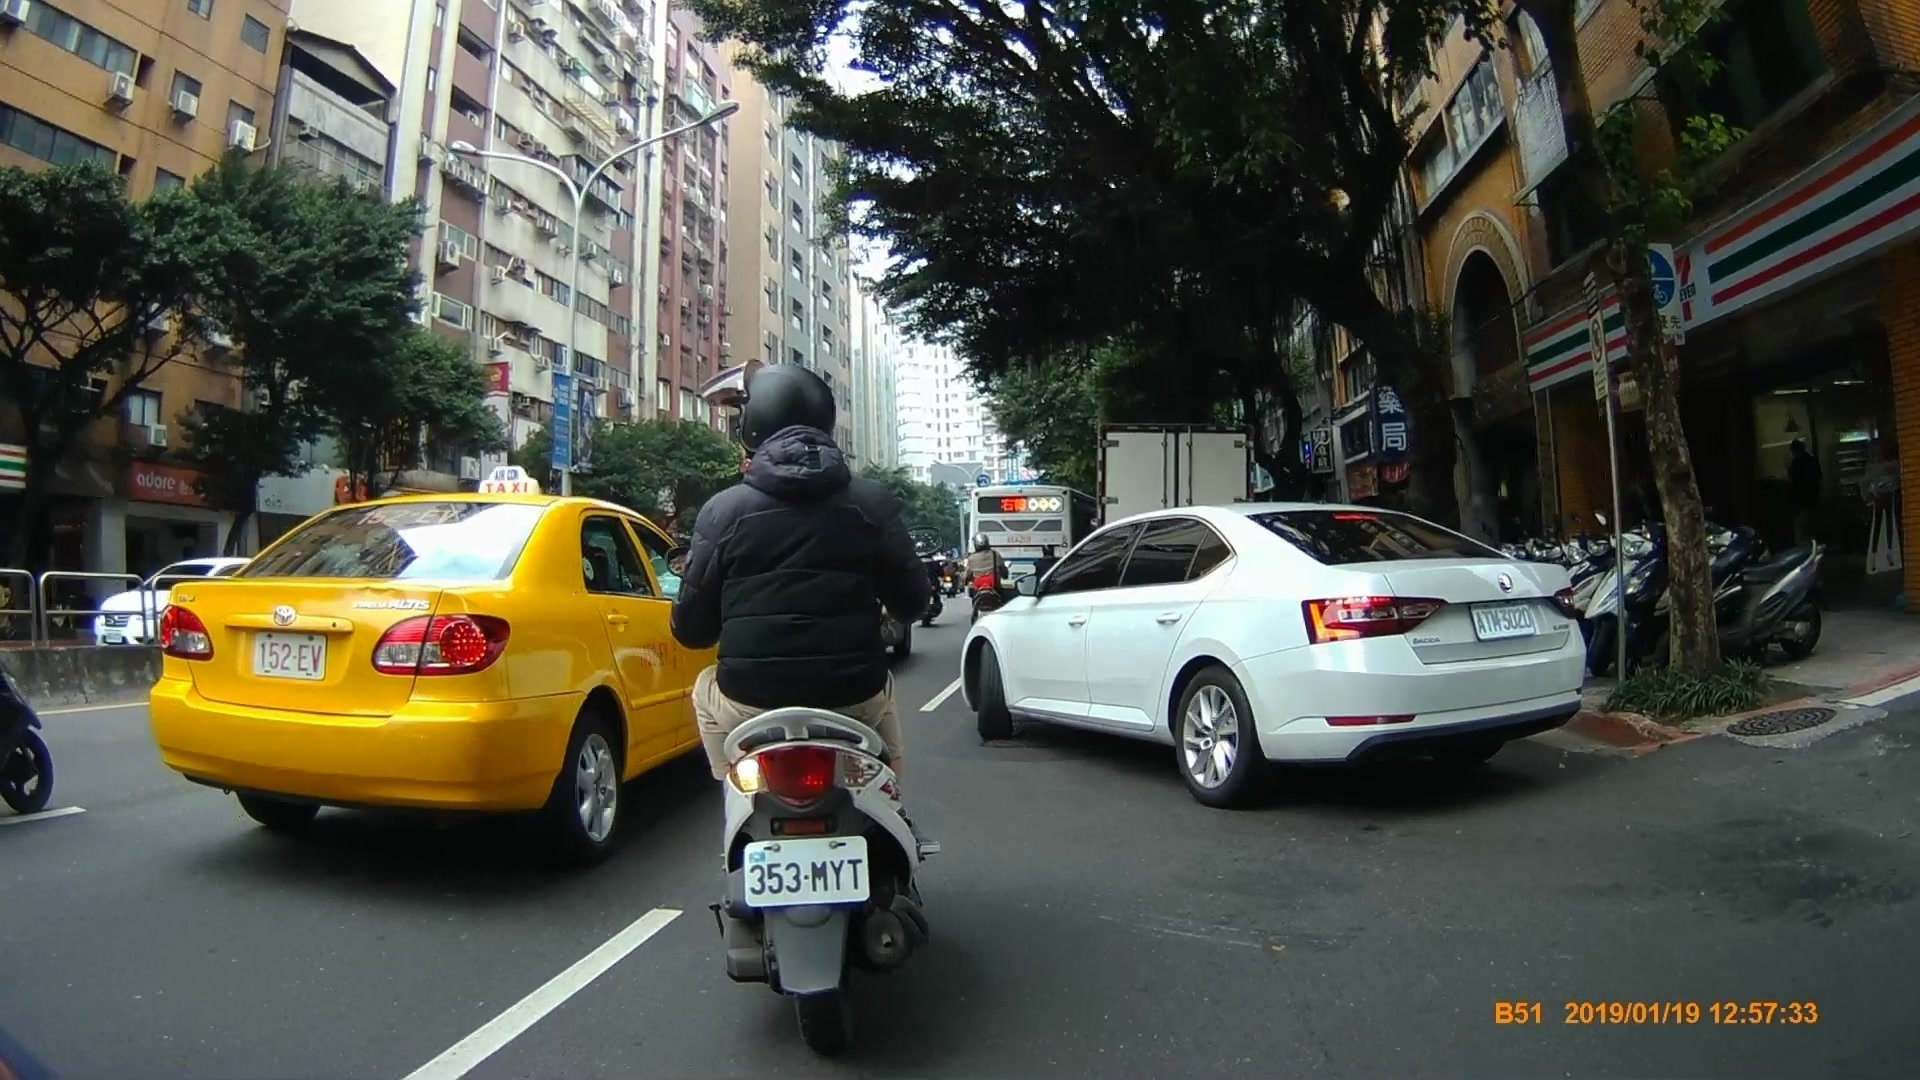License_plate: (741, 835, 871, 904), (249, 627, 331, 680), (1465, 605, 1542, 641)
